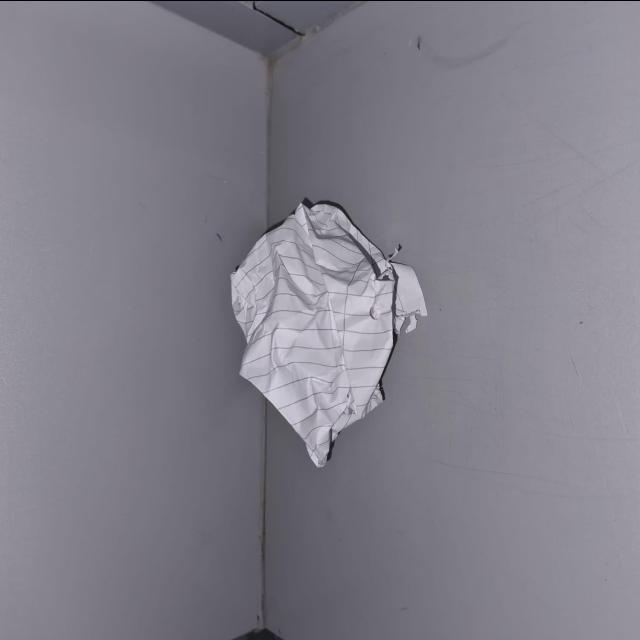kertas: (223, 200, 428, 468)
